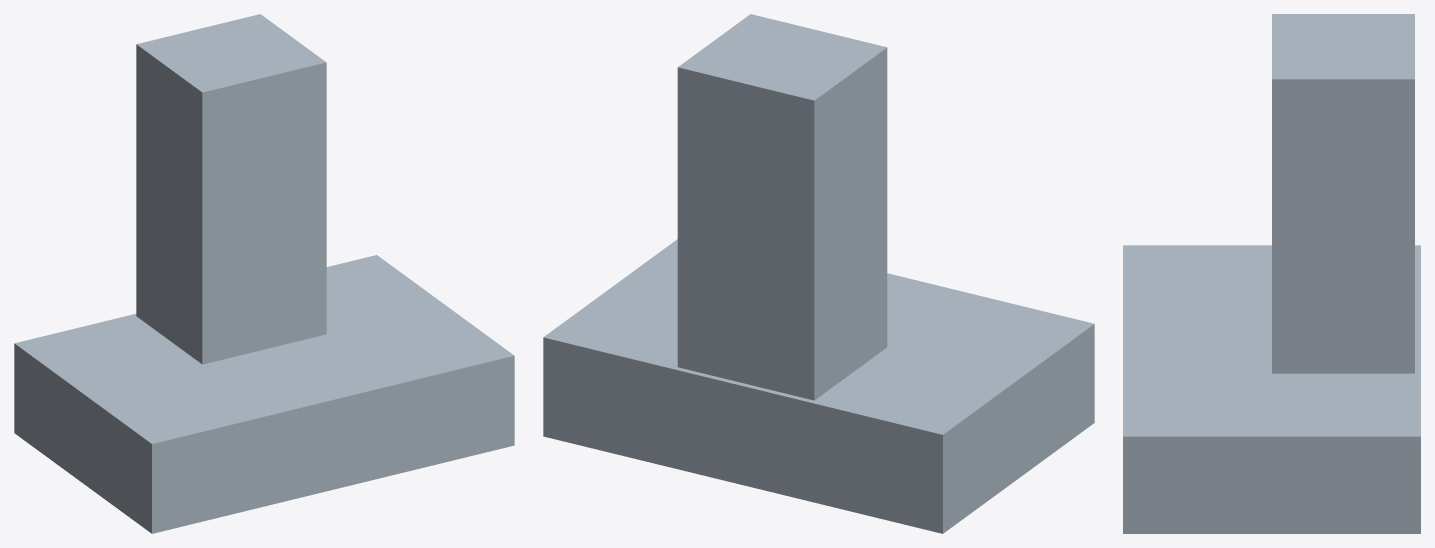
The model's file is equip-range-hood.glb.
The picture shows the model from 3 angles, left to right: view 1: azimuth 30°, elevation 25°; view 2: azimuth 150°, elevation 25°; view 3: azimuth 270°, elevation 25°; orthographic projection. The views are drawn at different scales.
Visible parts, largest first — view 1: hvac-equipment-range-hood; view 2: hvac-equipment-range-hood; view 3: hvac-equipment-range-hood.
Boxes of the visible parts, x1,y1,x2,y2 form: hvac-equipment-range-hood: (14, 14, 514, 533); hvac-equipment-range-hood: (543, 14, 1094, 533); hvac-equipment-range-hood: (1123, 14, 1420, 533).
Bounding box in the file's own units: 0.76 × 0.725 × 0.5.
